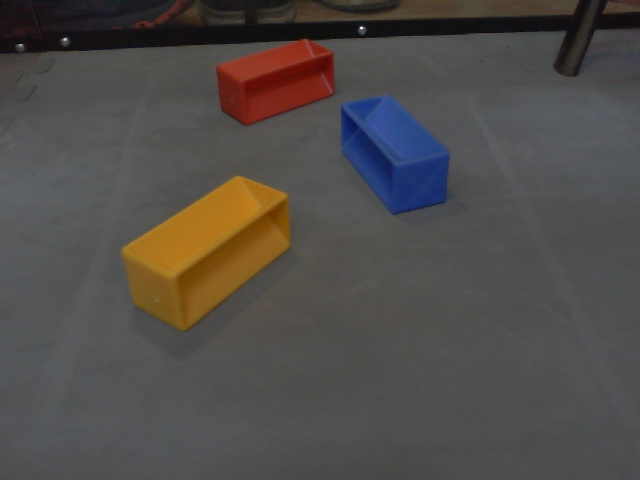BlueSample: (338, 94, 451, 217)
RedSample: (214, 38, 336, 126)
YellowSample: (120, 174, 291, 334)
